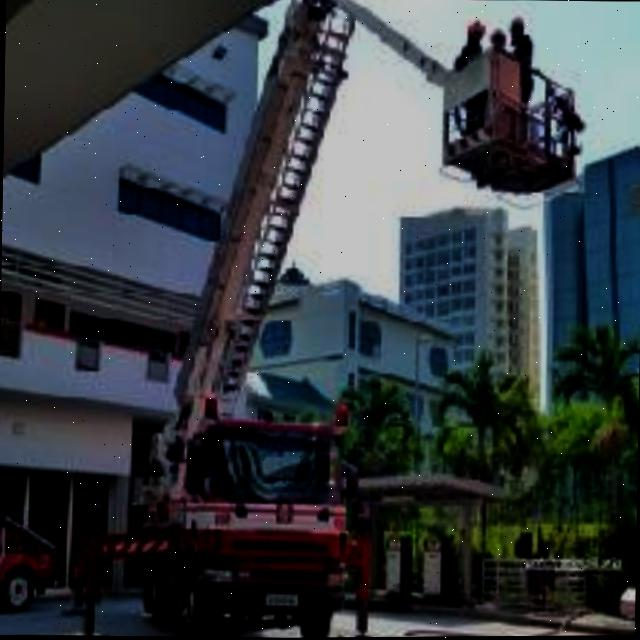emergency: (76, 380, 376, 640)
